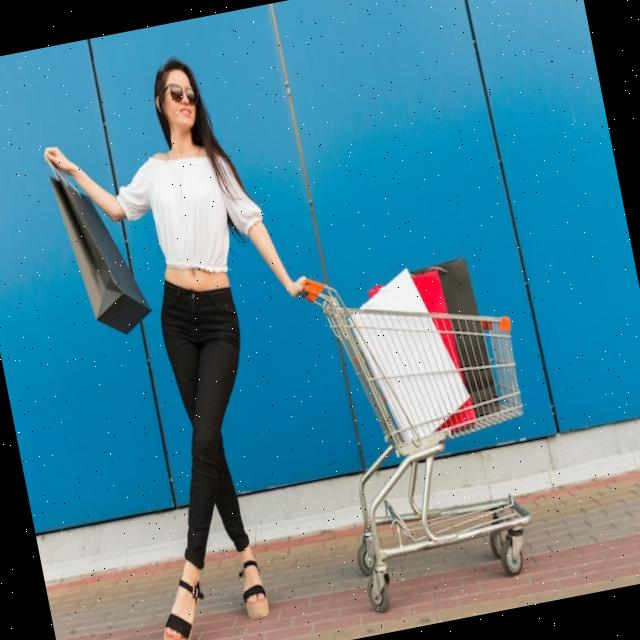Person: (30, 41, 370, 640)
